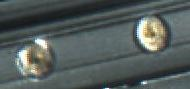joints: (13, 36, 56, 80), (133, 13, 171, 53)
